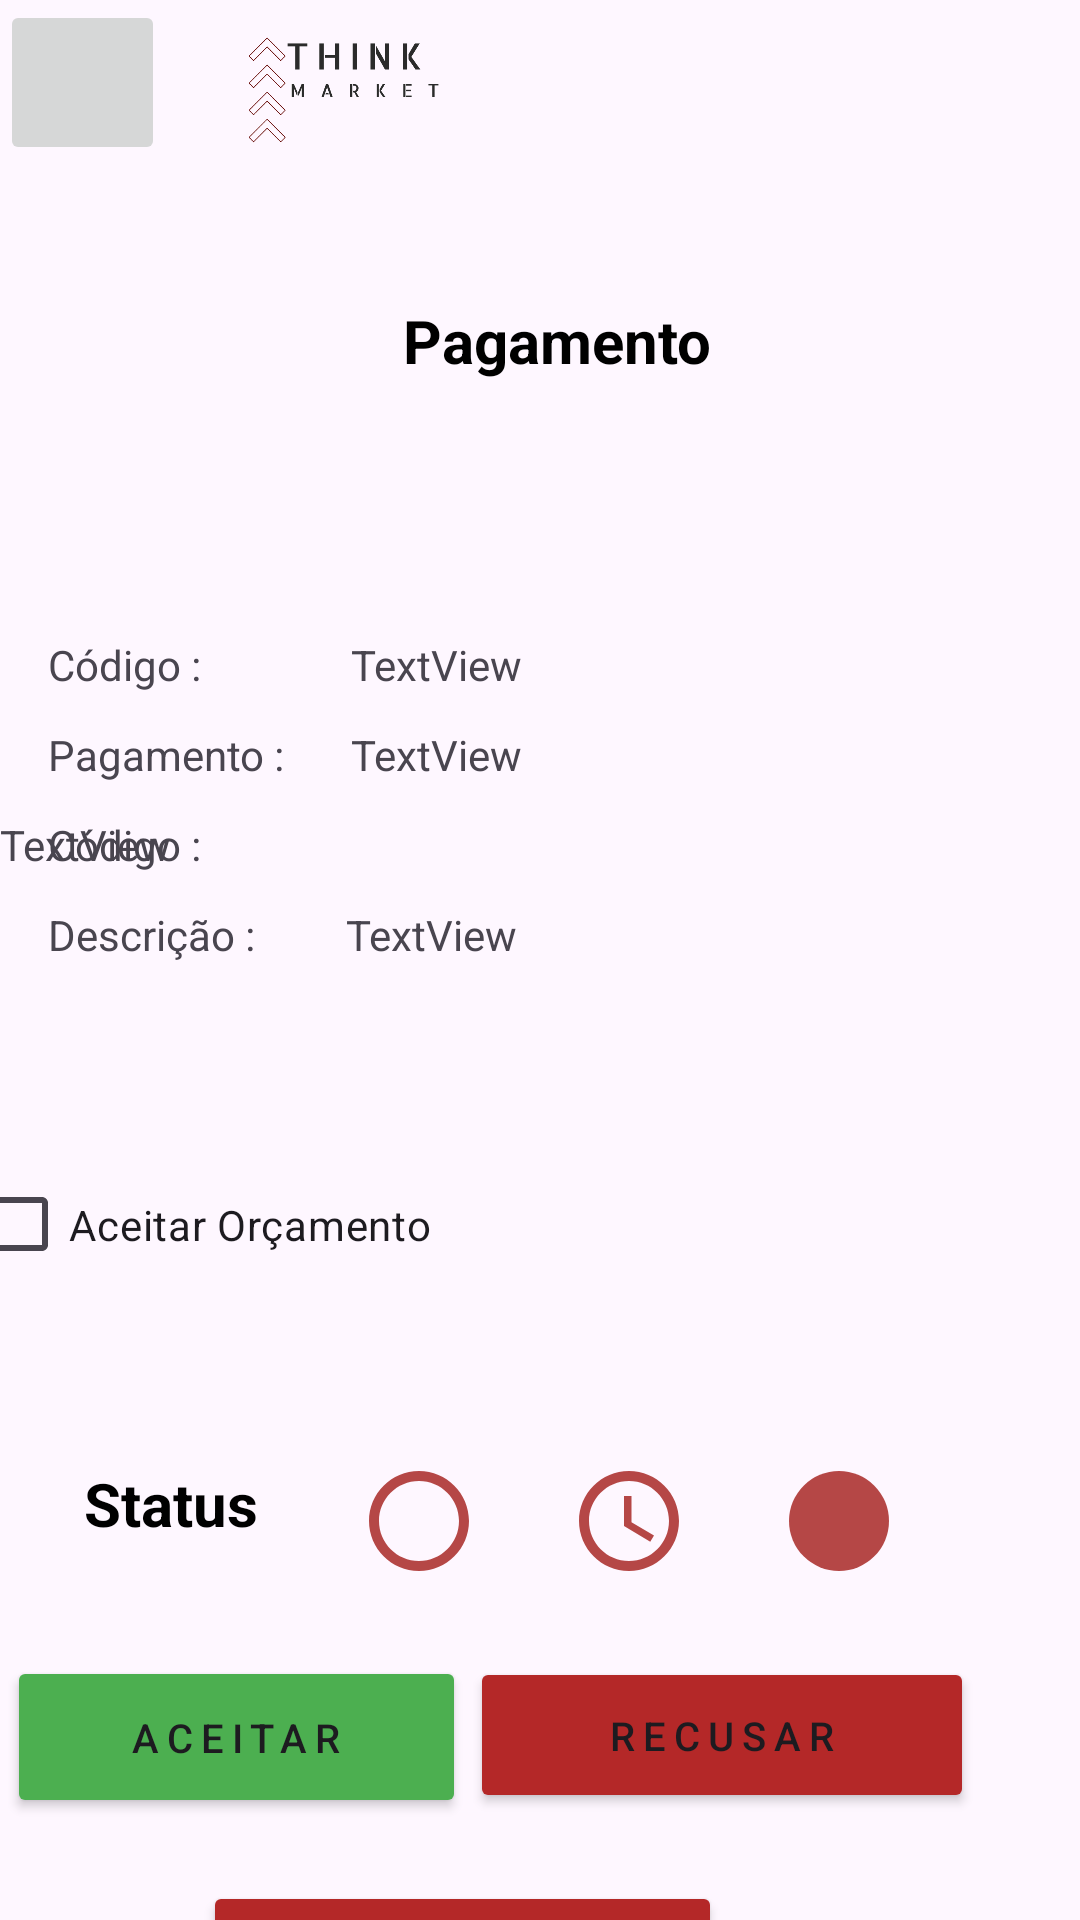

Icon click points for this 1080px×1920px phone screenshot, format (x,y):
access time: (629,1521)
